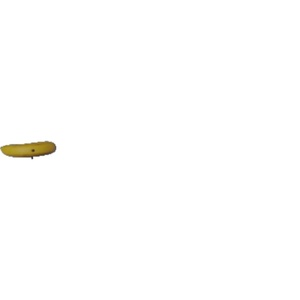banana: (2, 135, 58, 164)
